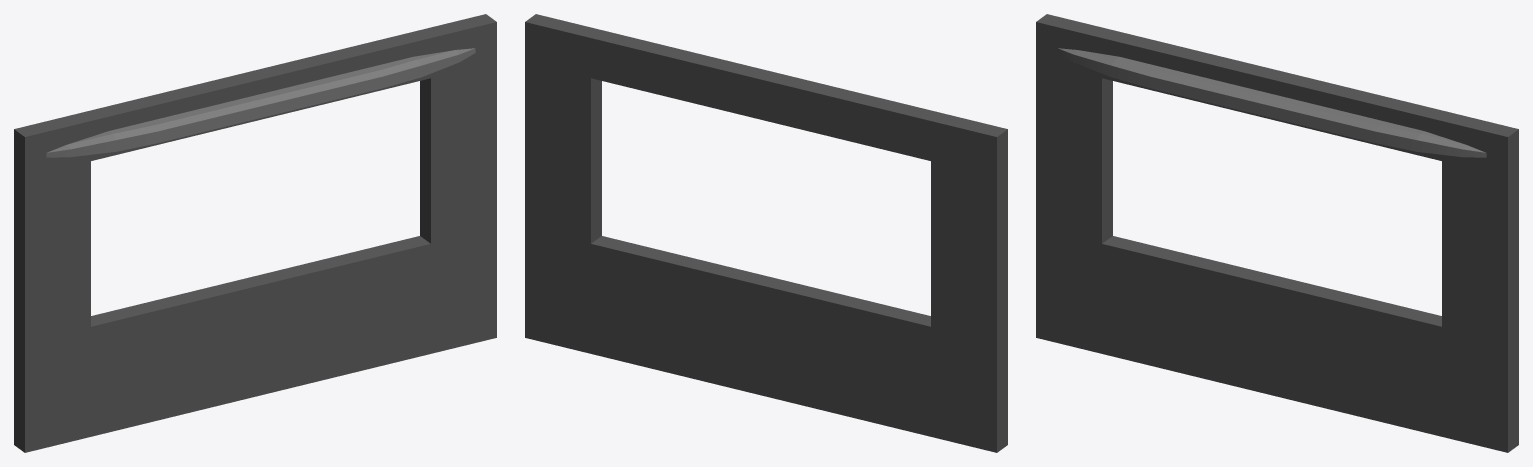
Rendered from Itr_Oven_Door_03.FBX.
The picture shows the model from 3 angles, left to right: view 1: azimuth 30°, elevation 25°; view 2: azimuth 150°, elevation 25°; view 3: azimuth 330°, elevation 25°; orthographic projection.
Parts seen in each view (by area): view 1: Itr_Oven_Door_03; view 2: Itr_Oven_Door_03; view 3: Itr_Oven_Door_03.
Boxes of the visible parts, <box> form: Itr_Oven_Door_03: <box>14,14,496,452</box>; Itr_Oven_Door_03: <box>525,14,1007,452</box>; Itr_Oven_Door_03: <box>1036,14,1518,452</box>.
Size of the model in its own units: 45.15 by 28.87 by 3.37.
